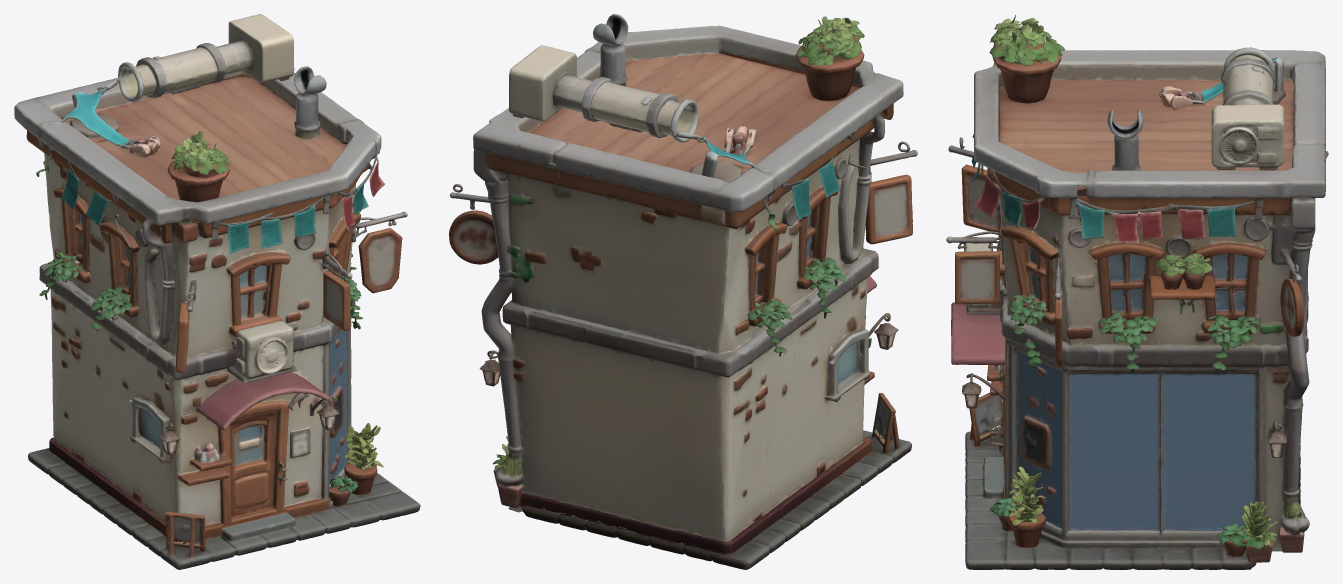
File: house.glb
3 views of the same model, side by side, from view 1: azimuth 30°, elevation 25°; view 2: azimuth 150°, elevation 25°; view 3: azimuth 270°, elevation 25° (orthographic). The views are drawn at different scales.
Visible parts, largest first — view 1: world; view 2: world; view 3: world.
Boxes of the visible parts, x1,y1,x2,y2 form: world: (14,14,420,569); world: (449,14,917,569); world: (946,14,1328,569).
Bounding box in the file's own units: 0.7365 × 1 × 0.7772.
1 material, 1 textured.
